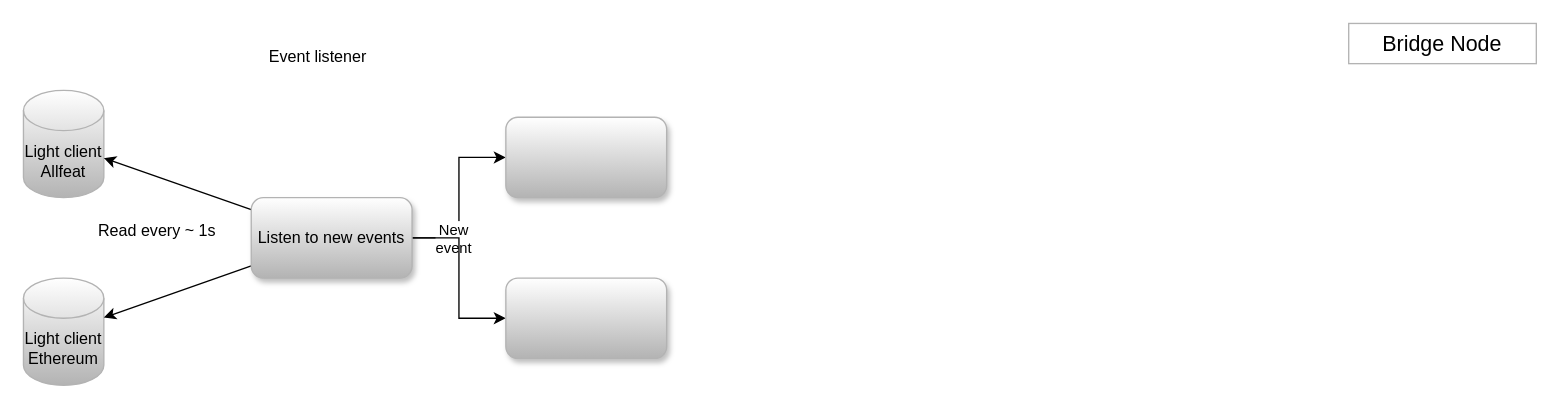
Image size: 1560x409. Some labels were removed from this diagram. Here are the shapes that lost their labels. From the top down, the centre of each, then its label:
pixel 587 159: Store event to local repository
pixel 587 319: Send event to message queueing
